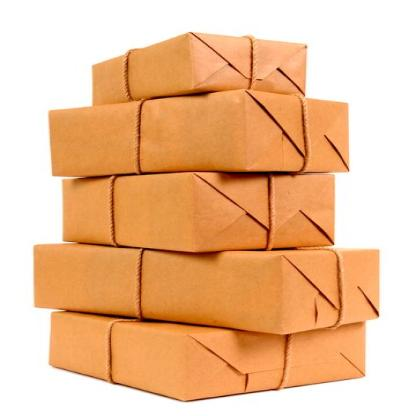box: (34, 243, 286, 336), (34, 88, 248, 178), (50, 312, 186, 402), (62, 172, 200, 254), (82, 31, 195, 107)
